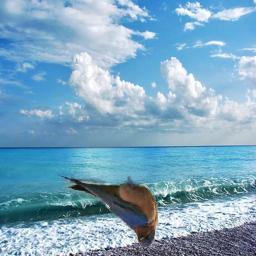Swallow: (58, 175, 158, 248)
